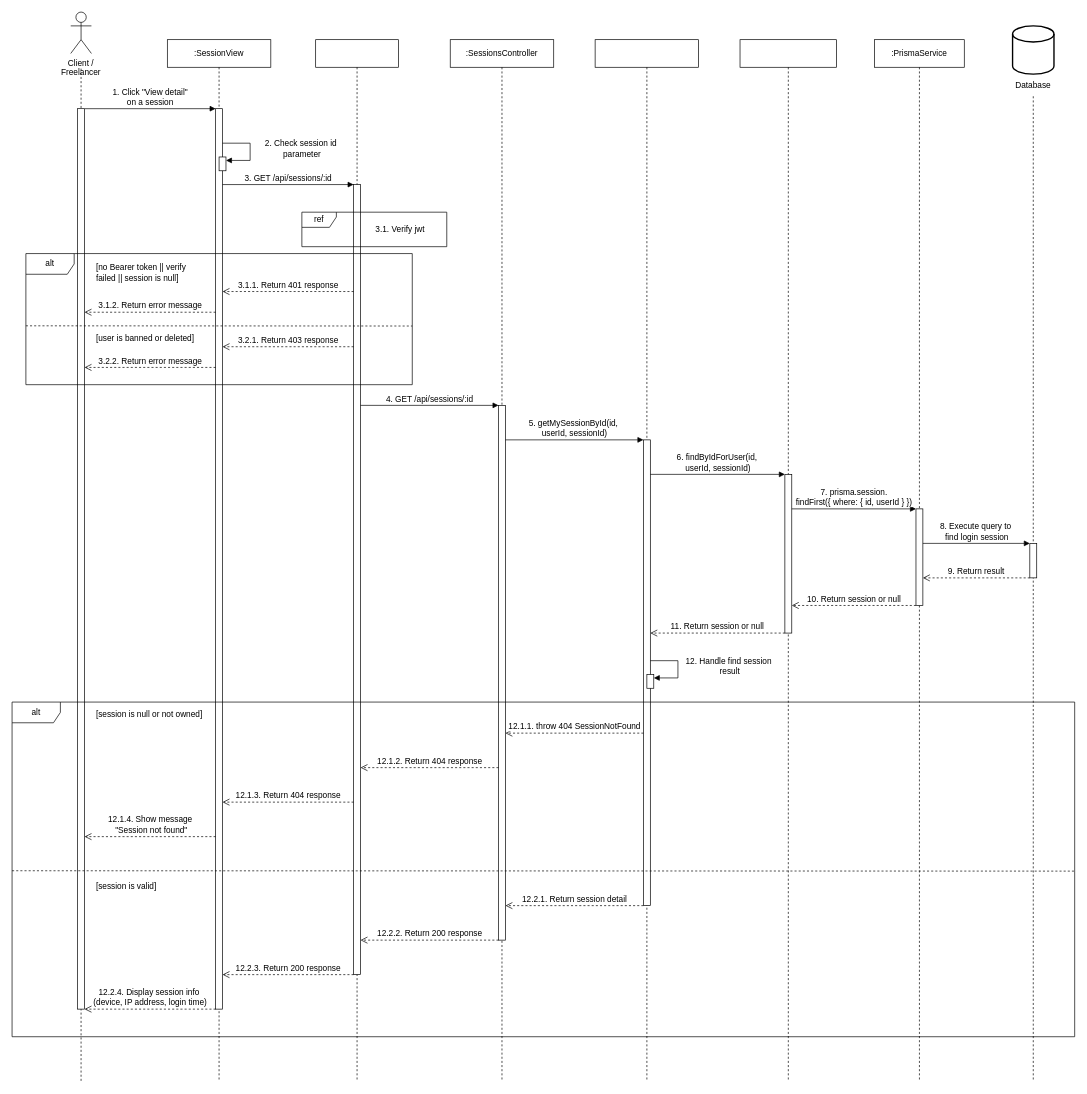
This 1087x1094 diagram has some shape labels left out. The box of each missing label's shape, as (x1, y1, x2, y2) in pixels:
:SessionRoute: (315, 39, 398, 1082)
:SessionsRepository: (739, 39, 837, 1082)
:SessionsService: (594, 39, 699, 1082)
